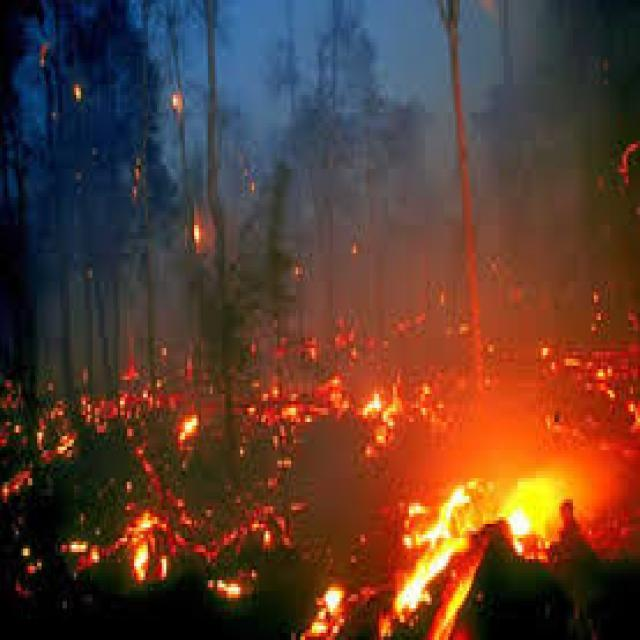Fire: (256, 1, 635, 630), (172, 491, 258, 611), (404, 476, 478, 608), (546, 331, 638, 426), (86, 353, 166, 461), (504, 438, 568, 551), (22, 390, 88, 476), (354, 357, 408, 457), (127, 512, 168, 584), (58, 532, 112, 582), (297, 586, 346, 638), (185, 197, 213, 264), (169, 412, 203, 465), (154, 86, 194, 126), (70, 73, 92, 119)
Smoke: (271, 25, 634, 304)
